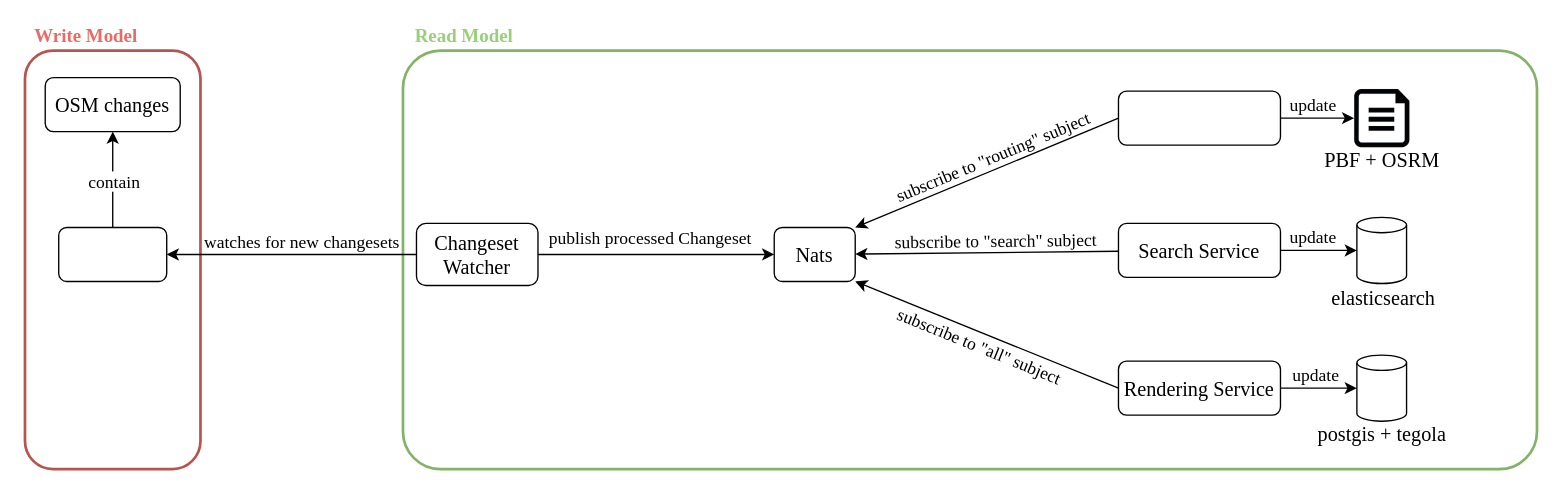
Image size: 1561x493. Some labels were removed from this diagram. Here are the shapes that lost their labels. From the top down, the centre of each, then its label:
point 1198,117: Routing Service
point 112,253: Changesets
